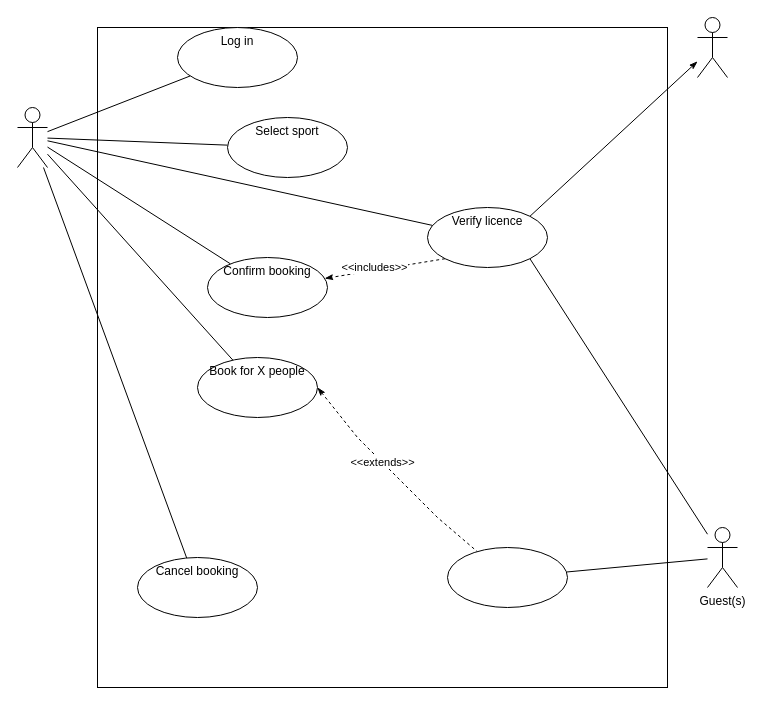
The diagram is 763 pixels wide and 705 high, and some of its shapes have lost their labels. The shapes that lost their labels are listed below. From the top down, each one's centre as x and y in pixels, then its label:
[712,47]: API's FFT
[32,137]: User
[507,577]: Recieve booking details
